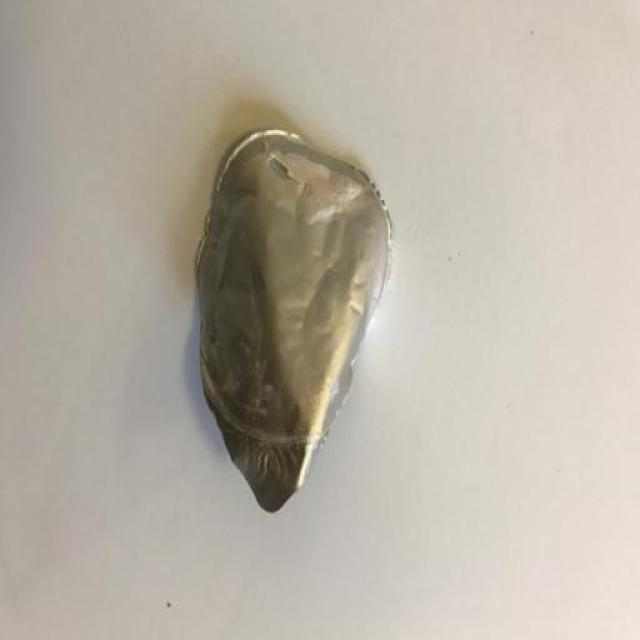Random Trash: (194, 125, 395, 512)
